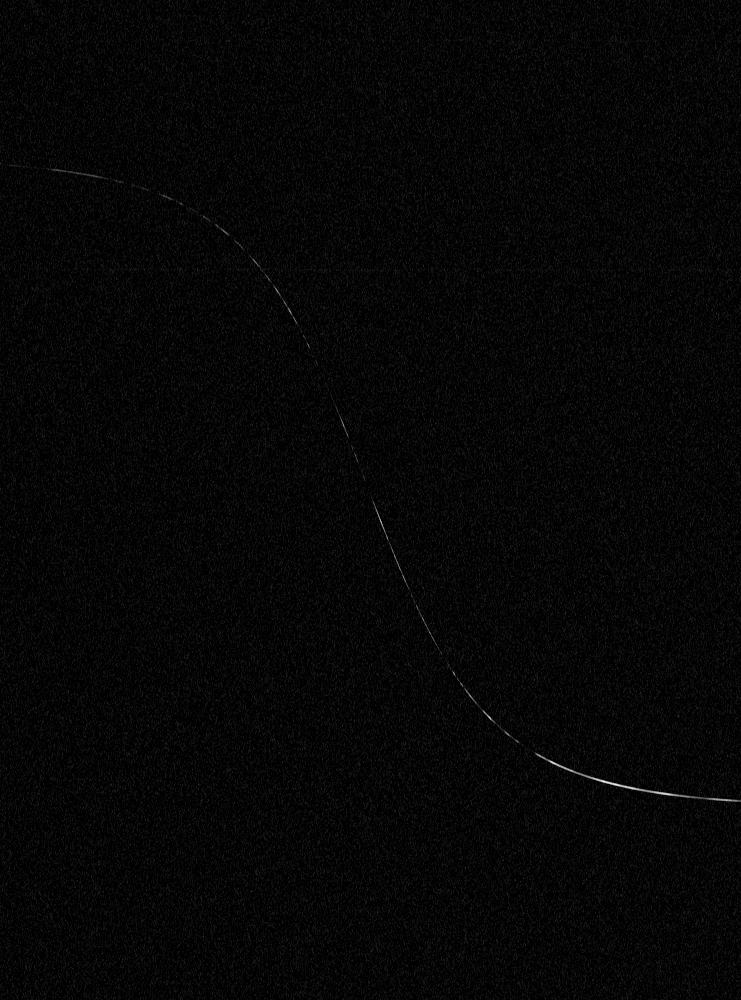signal: (0, 0, 740, 999)
